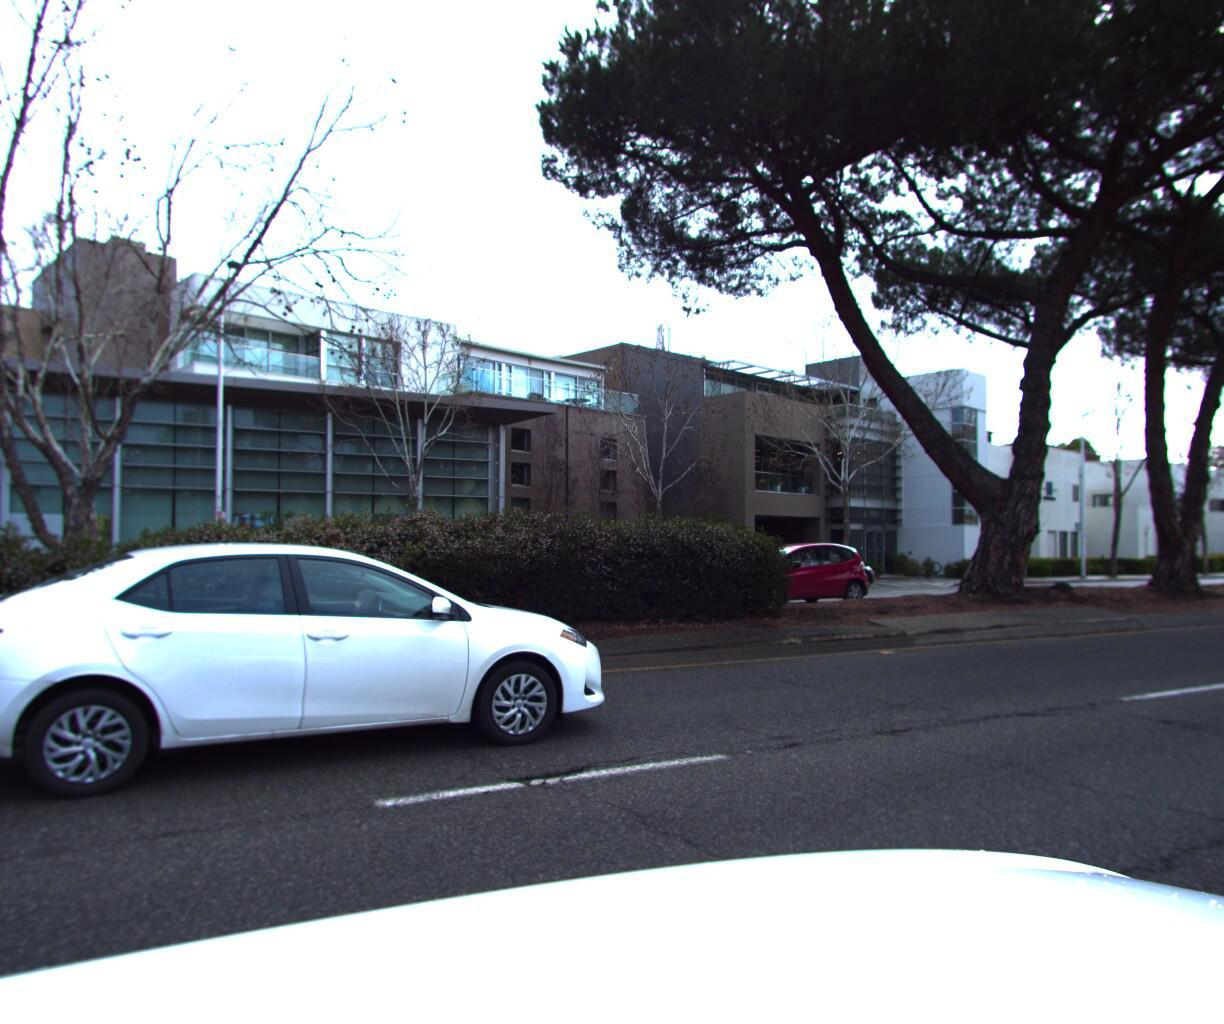car: (0, 525, 627, 829), (681, 546, 879, 610)
